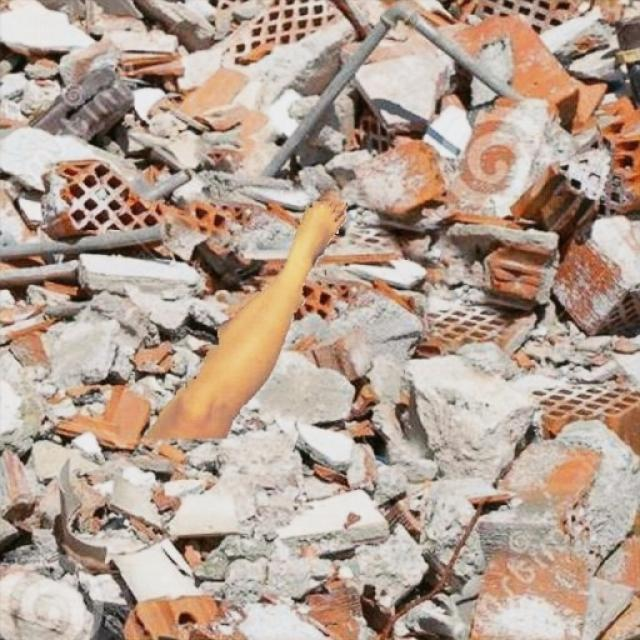Person in Rubble: (146, 202, 346, 438)
